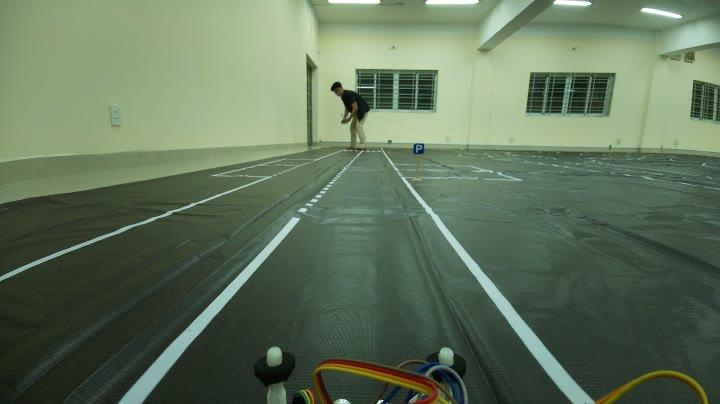parking: (413, 139, 430, 159)
